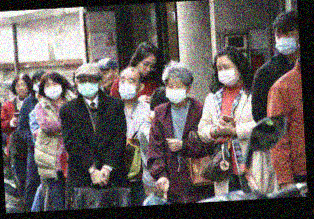with_mask: (274, 27, 298, 56), (216, 61, 239, 88), (165, 79, 188, 104), (117, 73, 137, 100), (77, 76, 99, 98), (43, 80, 63, 101), (31, 78, 42, 94)
without_mask: (137, 58, 158, 77), (13, 79, 31, 98), (99, 66, 113, 88)
